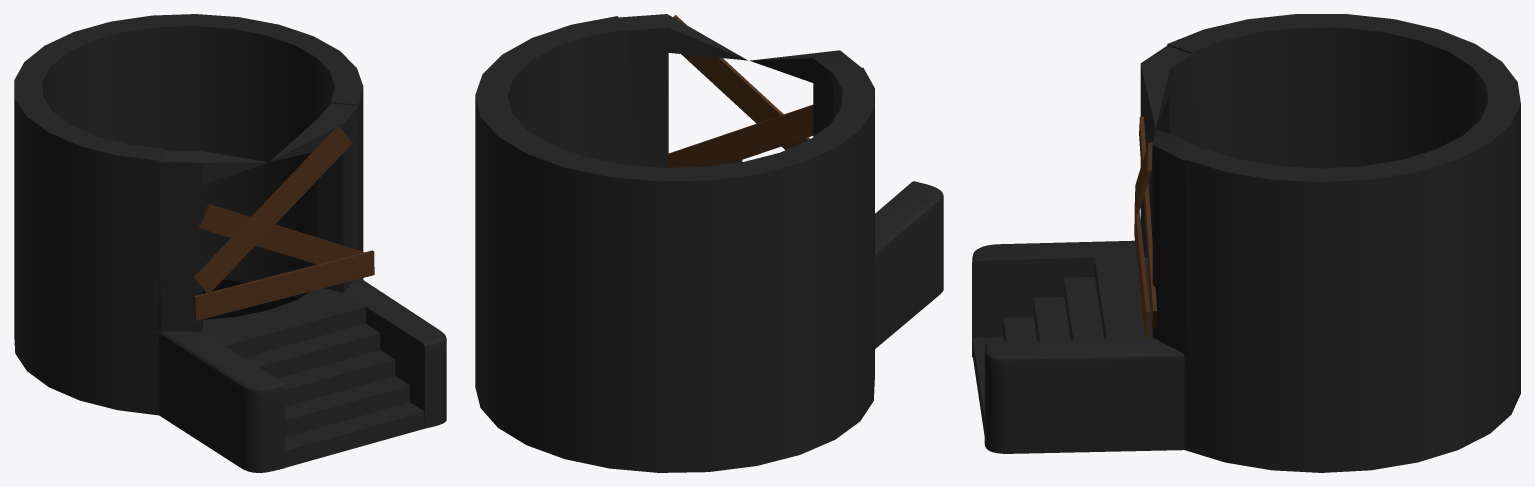
The model's file is WellEnding.FBX.
3 renders of one model, left to right at view 1: azimuth 30°, elevation 25°; view 2: azimuth 150°, elevation 25°; view 3: azimuth 270°, elevation 25°, orthographic. The views are drawn at different scales.
Visible parts, largest first — view 1: Well, Plank2, Plank, Plank3; view 2: Well, Plank3, Plank2; view 3: Well, Plank3, Plank, Plank2.
Boxes of the visible parts, left/top/right/bottom form: Well: left=14, top=14, right=446, bottom=472; Plank2: left=194, top=126, right=352, bottom=294; Plank: left=193, top=250, right=374, bottom=320; Plank3: left=198, top=204, right=363, bottom=264; Well: left=475, top=14, right=943, bottom=472; Plank3: left=668, top=104, right=813, bottom=167; Plank2: left=673, top=15, right=810, bottom=149; Well: left=972, top=14, right=1520, bottom=472; Plank3: left=1139, top=116, right=1156, bottom=328; Plank: left=1134, top=211, right=1150, bottom=337; Plank2: left=1134, top=142, right=1152, bottom=213.
Bounding box in the file's own units: 293 × 236 × 404.
